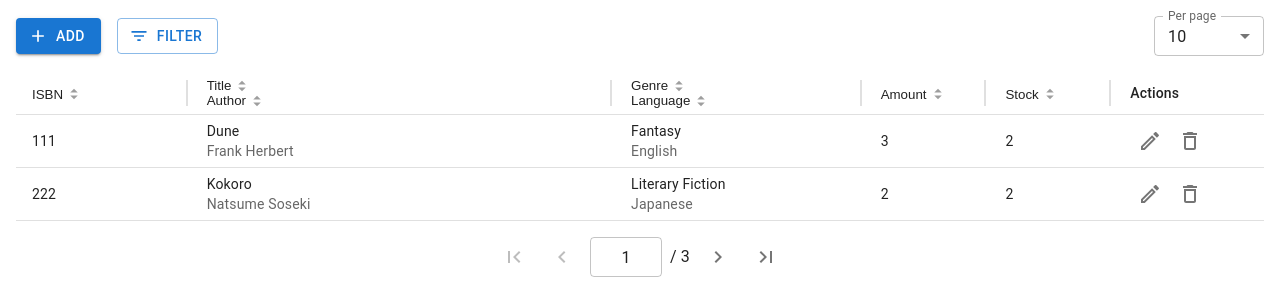
Scenario: CataloguePage › moves between pages with the buttons
Check: the row with test id "book-row-111" is shown, box [16,115,1264,168]
What coordinates should you click on to do the following:
click the button with test id "catalogue-next"
I would click on:
 (718, 257)
Its box is [698,237,738,277].
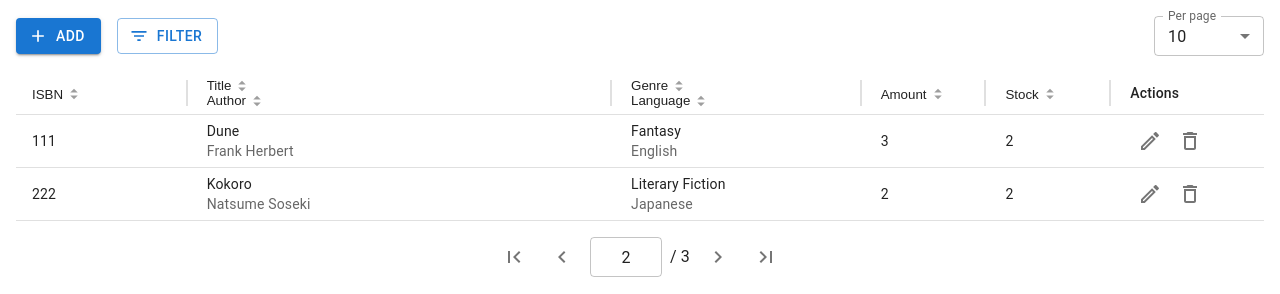
Check: the field with test id "catalogue-page-input" holds "2", box [590,237,662,277]
What coordinates should you click on to do the following:
click the button with test id "catalogue-last"
I would click on:
 (766, 257)
Its box is [746,237,786,277].
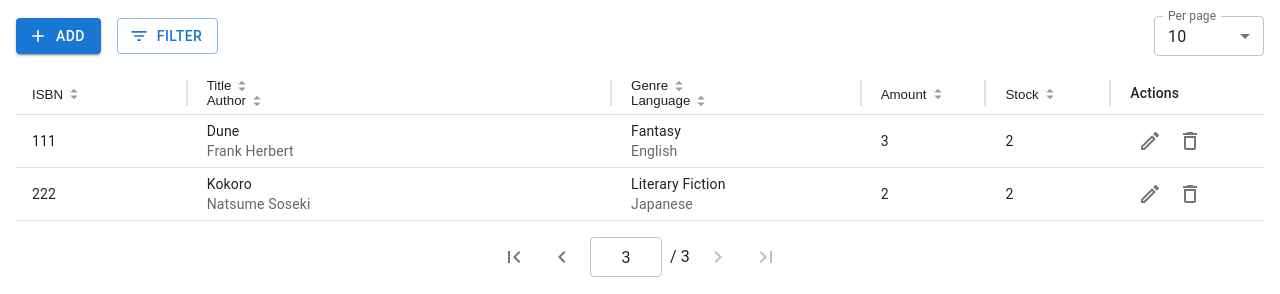
Check: the field with test id "catalogue-page-input" holds "3", box [590,237,662,277]
Check: the button with test id "catalogue-next" is disabled, box [698,237,738,277]
What coordinates should you click on to do the following:
click the button with test id "catalogue-prev"
I would click on:
 (562, 257)
Its box is [542,237,582,277].
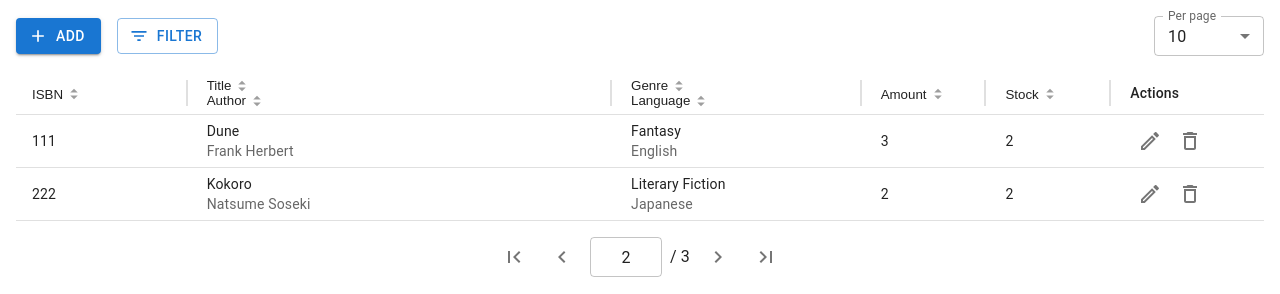
Check: the field with test id "catalogue-page-input" holds "2", box [590,237,662,277]
What coordinates should you click on to do the following:
click the button with test id "catalogue-first"
I would click on:
 (514, 257)
Its box is [494,237,534,277].
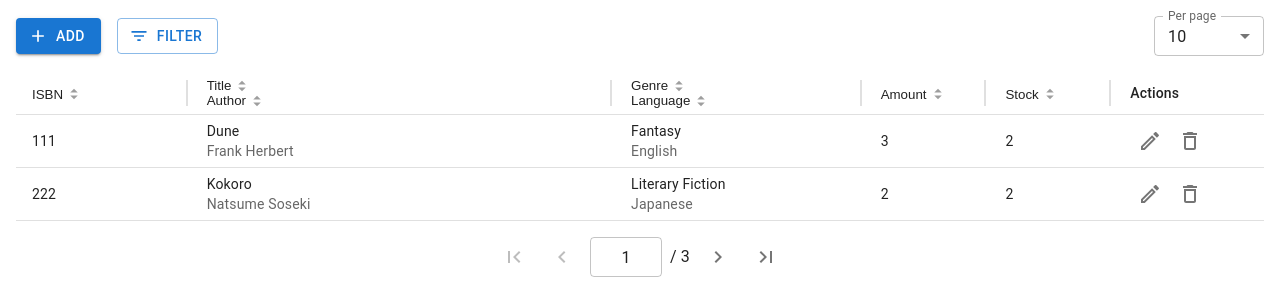
Check: the field with test id "catalogue-page-input" holds "1", box [590,237,662,277]
